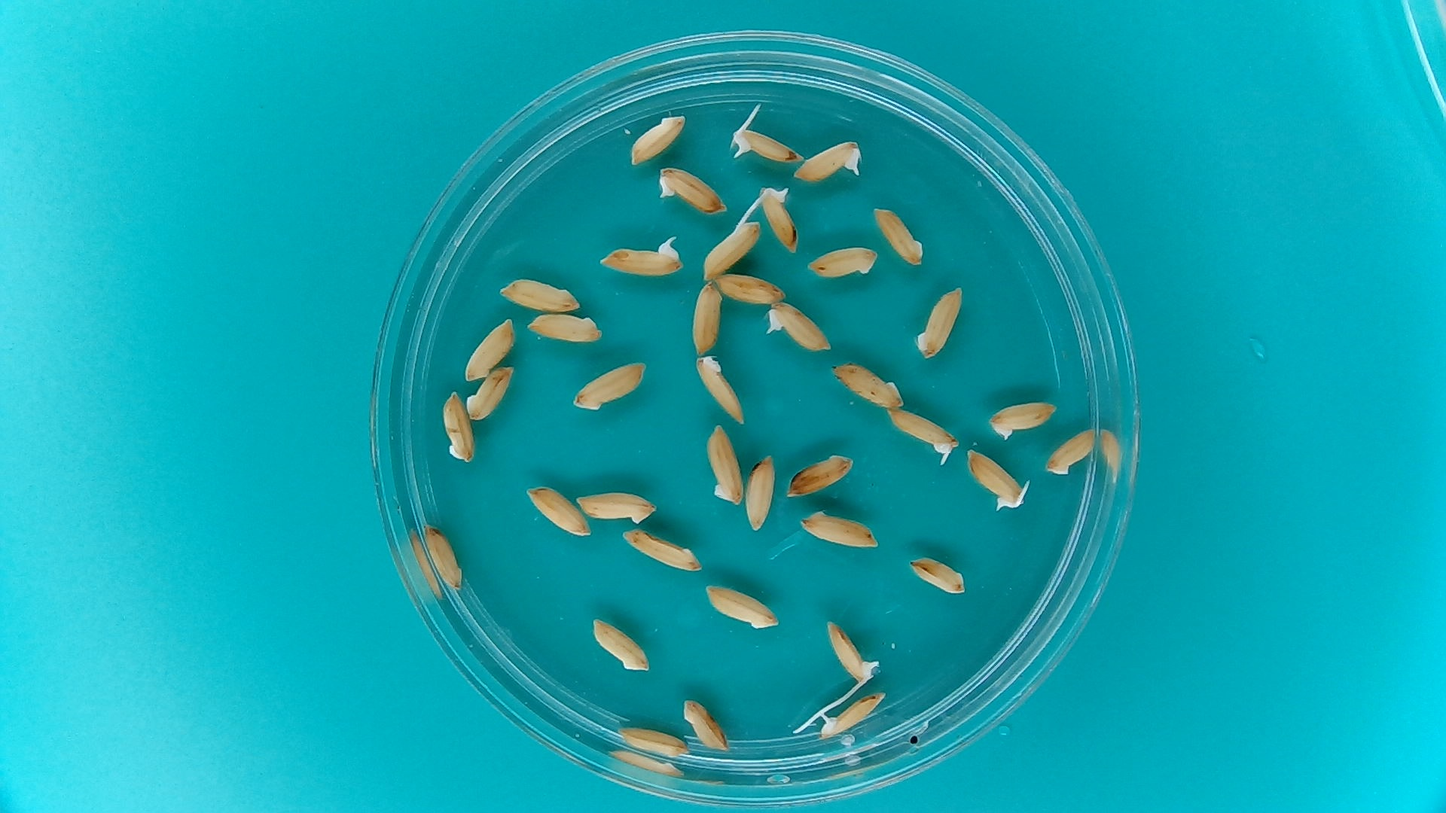no: (914, 282, 966, 362), (572, 358, 648, 412), (700, 217, 764, 281), (618, 526, 704, 573), (702, 581, 782, 630), (524, 483, 593, 539), (587, 616, 654, 673), (694, 353, 746, 425), (462, 315, 517, 382), (871, 203, 926, 269), (829, 360, 906, 407), (798, 507, 880, 550), (704, 422, 744, 506), (785, 451, 856, 498), (627, 110, 686, 166), (420, 520, 465, 593), (572, 488, 660, 525), (497, 275, 581, 312), (984, 398, 1057, 440), (464, 363, 515, 421), (743, 451, 777, 534), (612, 720, 687, 757), (713, 270, 790, 306), (526, 311, 605, 346), (1043, 426, 1096, 477), (805, 243, 880, 279), (440, 390, 476, 465), (681, 698, 730, 753), (690, 280, 723, 358), (904, 554, 968, 594)
yes: (963, 446, 1031, 513), (883, 405, 960, 464), (815, 617, 881, 685), (595, 234, 688, 279), (654, 162, 728, 214), (763, 300, 832, 354), (792, 137, 864, 184), (755, 182, 801, 254), (821, 693, 889, 741), (727, 123, 803, 165)
